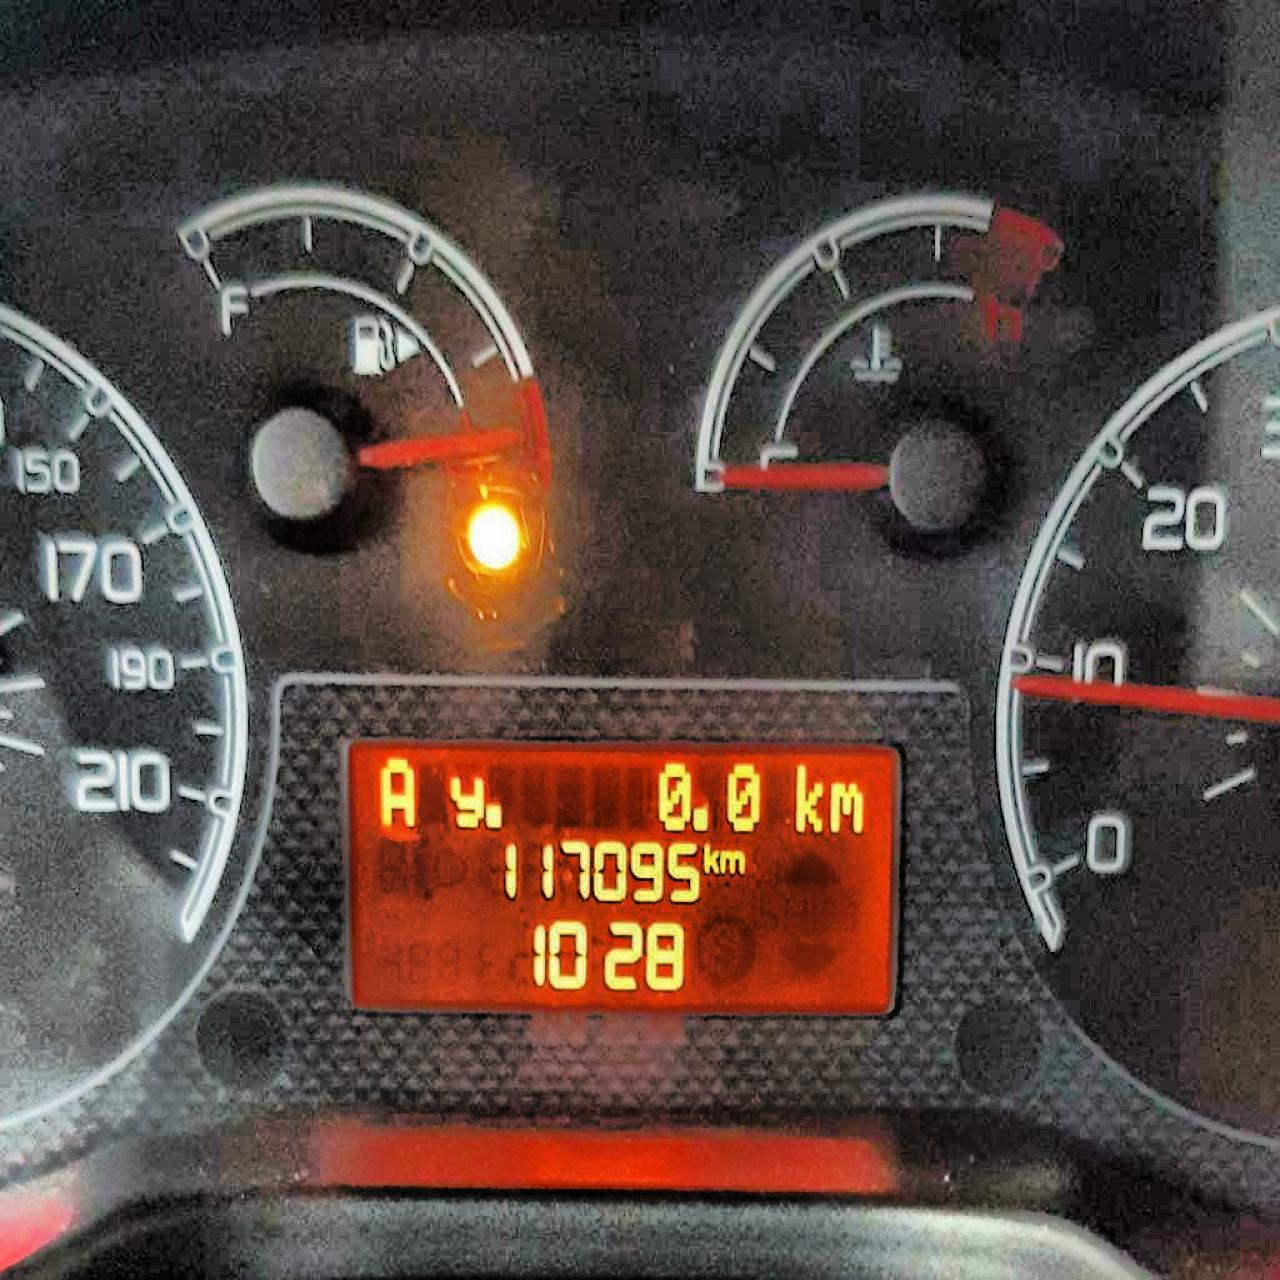-: (484, 799, 505, 831), (692, 803, 710, 835)
0: (546, 918, 587, 990), (656, 757, 692, 831), (726, 761, 761, 832), (591, 838, 625, 900)
1: (529, 918, 546, 996), (498, 839, 517, 904), (540, 839, 554, 903)
2: (601, 914, 642, 990)
5: (666, 838, 700, 904)
7: (559, 836, 590, 899)
8: (645, 919, 682, 992)
9: (628, 839, 663, 903)
X: (377, 756, 416, 830), (791, 758, 826, 837), (828, 777, 864, 835), (449, 770, 483, 830), (719, 845, 747, 874), (701, 838, 719, 877)
odometer: (338, 727, 908, 1019)
